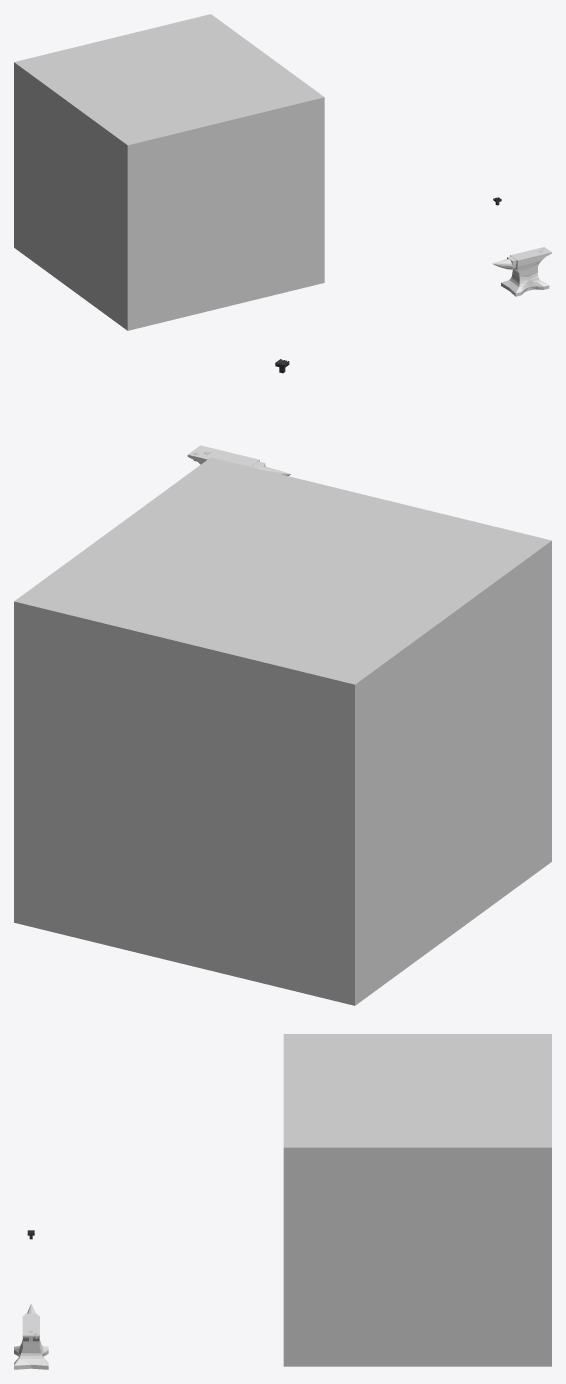
File: bottomswage.dae
3 renders of one model, top to bottom at view 1: azimuth 30°, elevation 25°; view 2: azimuth 150°, elevation 25°; view 3: azimuth 270°, elevation 25°, orthographic. The views are drawn at different scales.
Parts seen in each view (by area): view 1: Cube_004, Cube_002; view 2: Cube_004, Cube_002; view 3: Cube_004, Cube_002.
Boxes of the visible parts, x1,y1,x2,y2 form: Cube_004: (14, 14, 324, 330); Cube_002: (492, 247, 551, 296); Cube_004: (14, 457, 551, 1005); Cube_002: (187, 445, 290, 475); Cube_004: (283, 1034, 551, 1366); Cube_002: (14, 1304, 48, 1369).
Bounding box in the file's own units: 3.18 × 4.01 × 1.8.
Materials: 1 (1 with a texture image).
